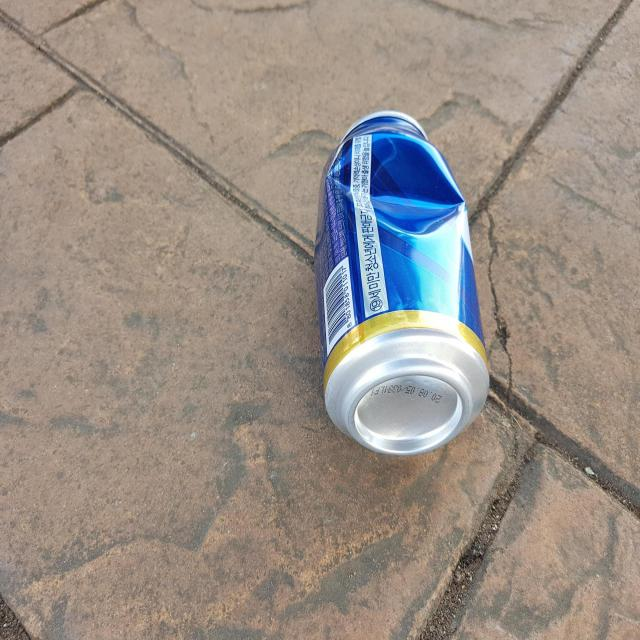can: (315, 110, 490, 455)
